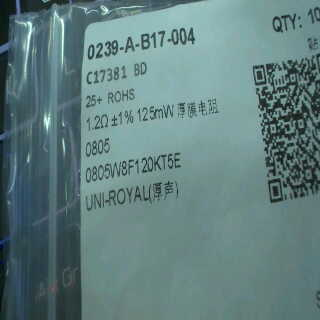1.2R: (83, 112, 110, 159)
